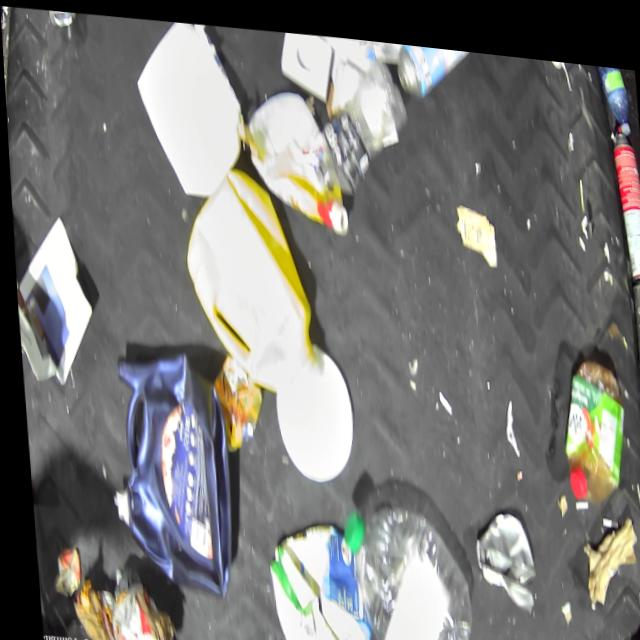can: (467, 498, 533, 606), (394, 34, 484, 96), (610, 111, 640, 271), (628, 271, 640, 364), (48, 8, 81, 29)
non_white_jug: (97, 338, 232, 599), (177, 155, 314, 392)
plastic_bottle: (334, 494, 469, 640), (307, 49, 411, 195), (594, 52, 630, 122)
